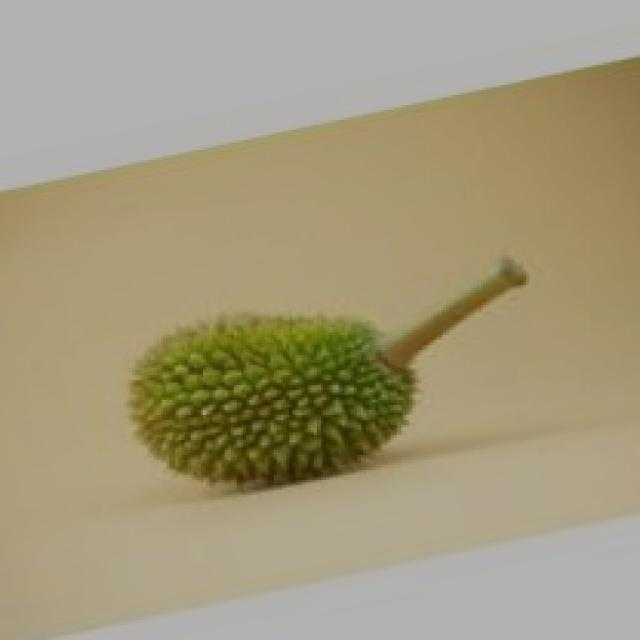fruit: (95, 268, 440, 522)
